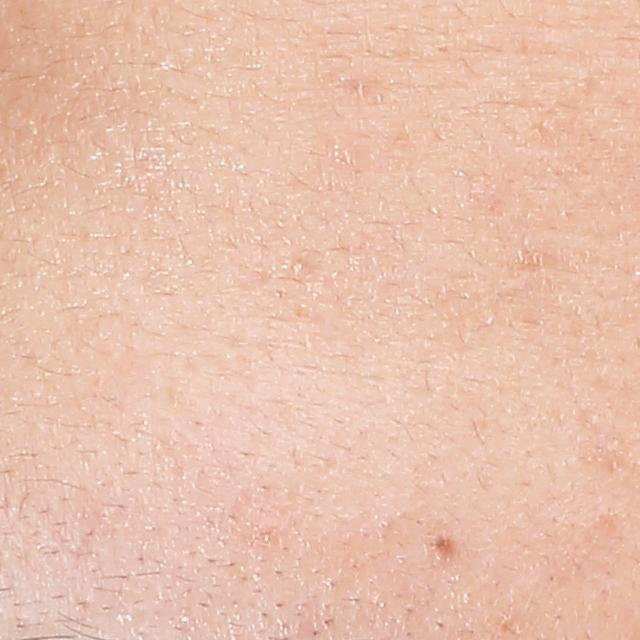nevus: (438, 533, 454, 561)
